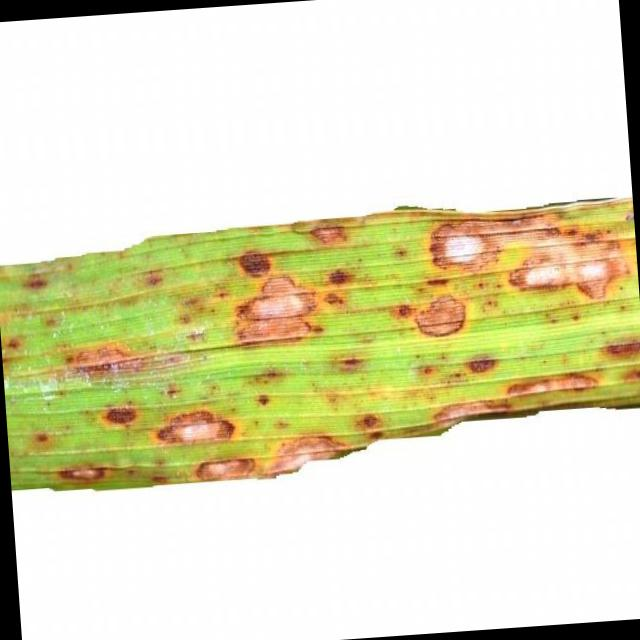Rice_Brownspot: (422, 360, 614, 429), (496, 218, 626, 302), (224, 249, 336, 346), (40, 327, 194, 388), (390, 270, 489, 348), (412, 196, 505, 272), (263, 414, 358, 476), (52, 449, 172, 497), (148, 397, 240, 444), (192, 443, 260, 486), (88, 388, 148, 434), (598, 324, 640, 385), (230, 237, 280, 279), (458, 340, 505, 379), (354, 401, 389, 447), (299, 219, 354, 244), (19, 264, 56, 294), (331, 341, 368, 368), (26, 422, 60, 450)
